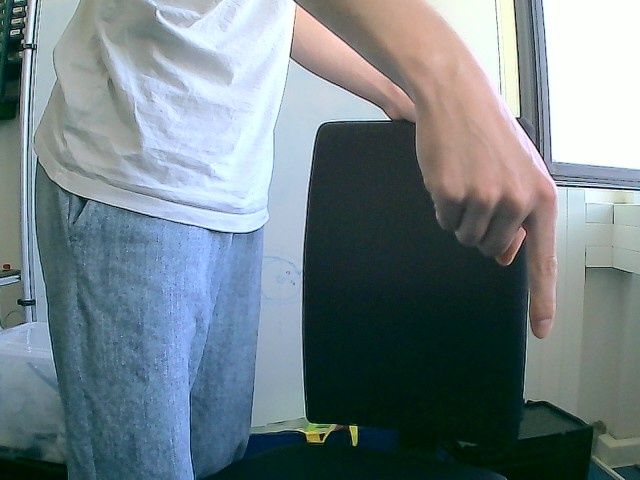down: (412, 89, 561, 340)
